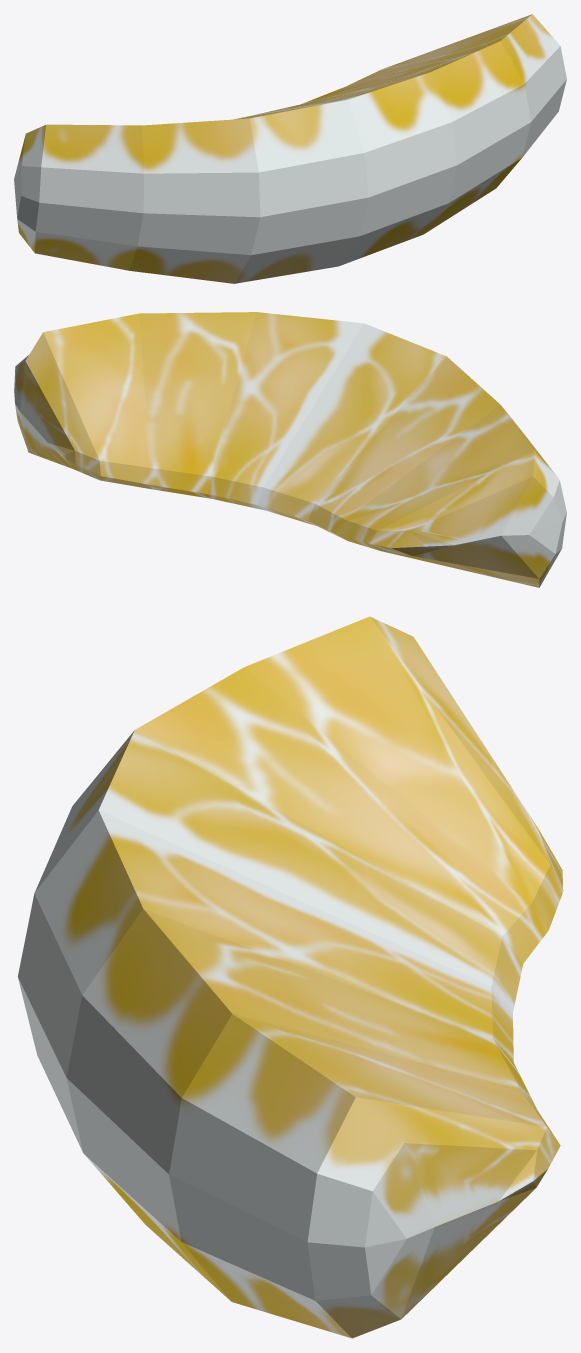
Rendered from orangeVerticalSlice.fbx.
3 views of the same model, one above another, from view 1: azimuth 30°, elevation 25°; view 2: azimuth 150°, elevation 25°; view 3: azimuth 270°, elevation 25° (orthographic). The views are drawn at different scales.
Visible parts, largest first — view 1: orangeVerticalSlice; view 2: orangeVerticalSlice; view 3: orangeVerticalSlice.
Boxes of the visible parts, x1,y1,x2,y2 form: orangeVerticalSlice: (14, 14, 566, 283); orangeVerticalSlice: (14, 312, 566, 587); orangeVerticalSlice: (17, 616, 563, 1338).
Size of the model in its own units: 19.34 by 5.79 by 8.54.
